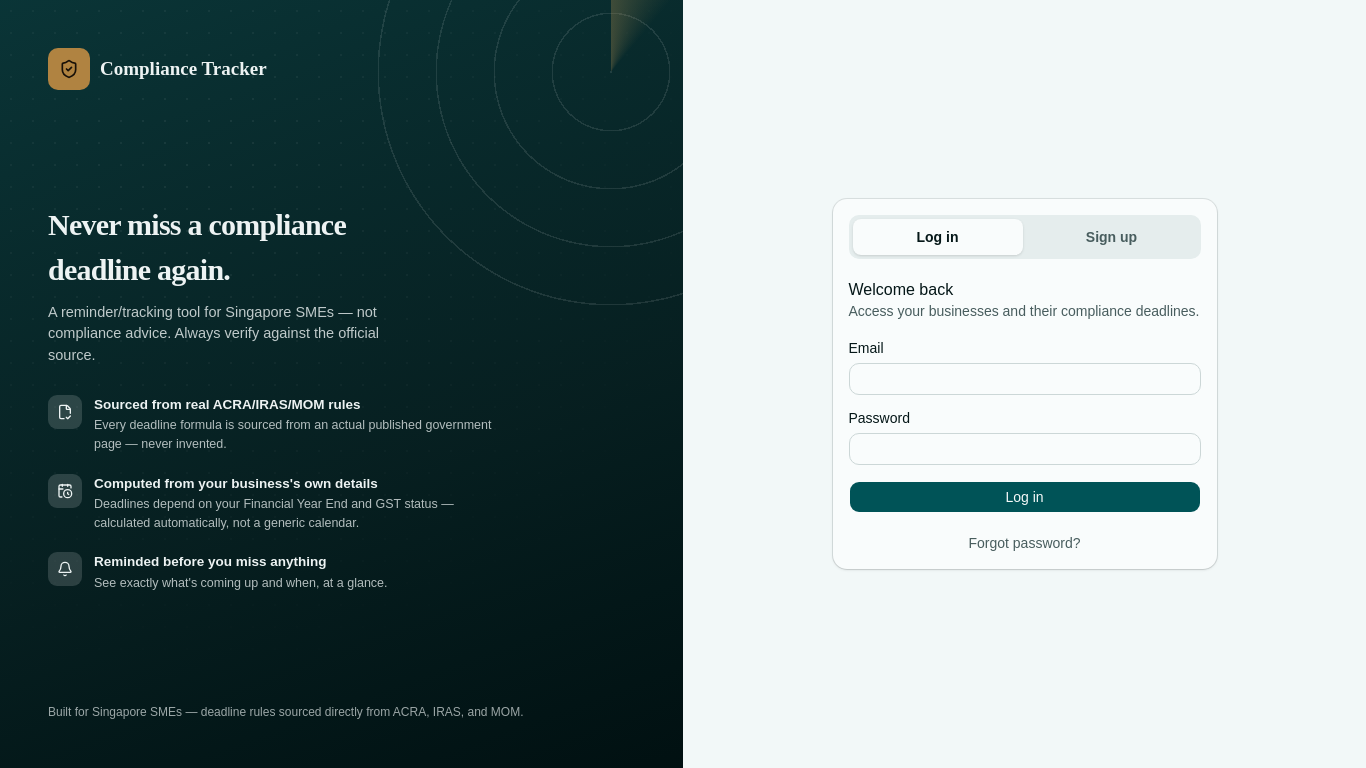
Test: LoginForm › switches to register mode when the Sign up toggle is clicked
Click the button "Sign up".
click(1112, 237)  # box [1026, 219, 1196, 255]
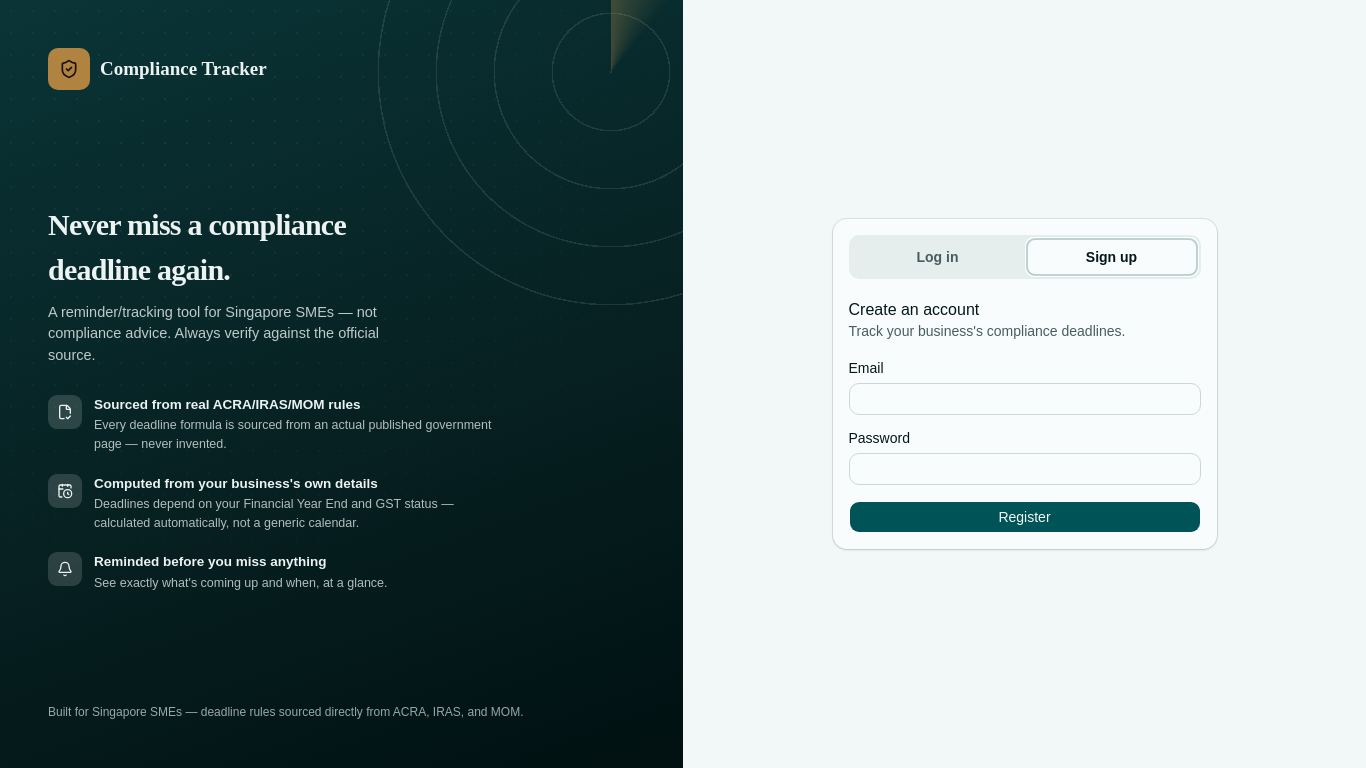
expect the text "Create an account" is shown: met, box [848, 301, 979, 318]
expect the button "Register" is shown: met, box [848, 501, 1200, 533]
